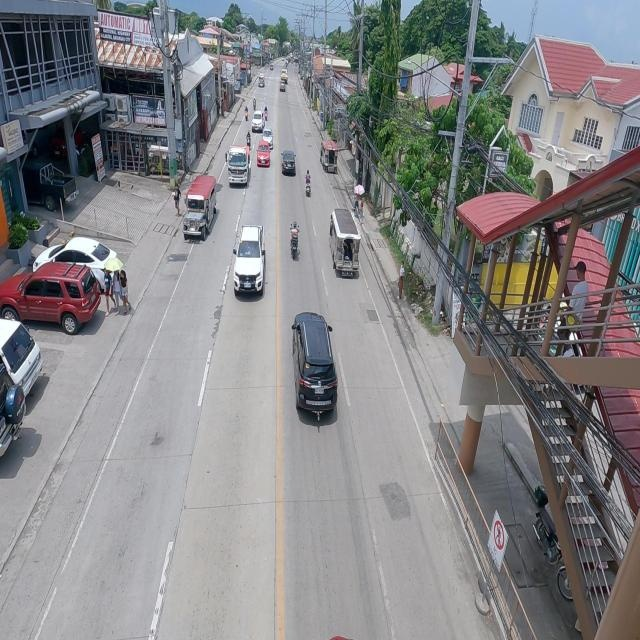Truck: (233, 220, 266, 302), (227, 143, 250, 186)
